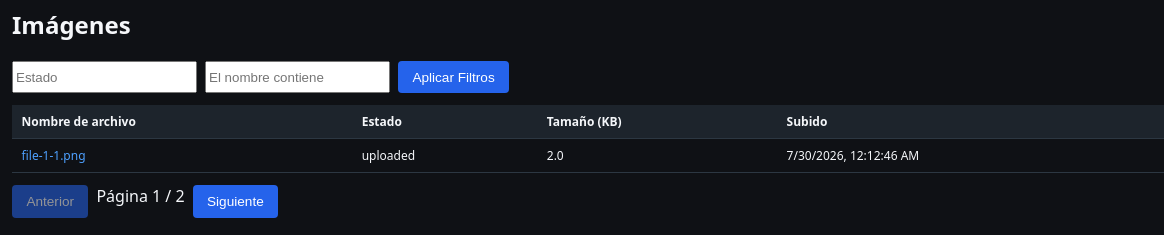
Scenario: ImagesListPage › renders first page and paginates to next
Expected: the link "file-1-1.png" is shown, [22,147,86,164]
Expected: the text "Página 1 / 2" is shown, [96,185,185,218]
Click the button "Siguiente" at (235, 202), box [193,185,278,218]
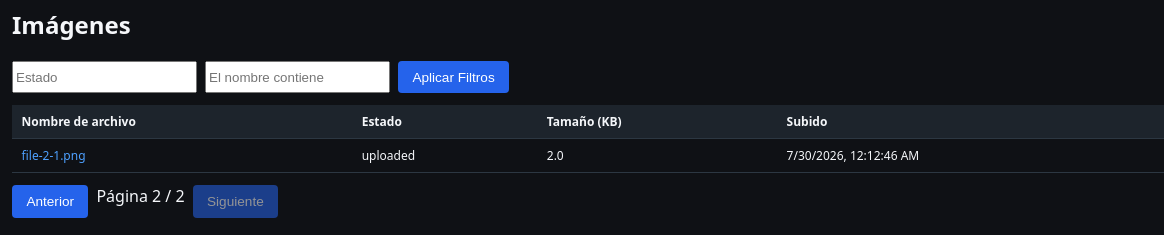
Now the text "Página 2 / 2" is shown, box [96,185,185,218]
